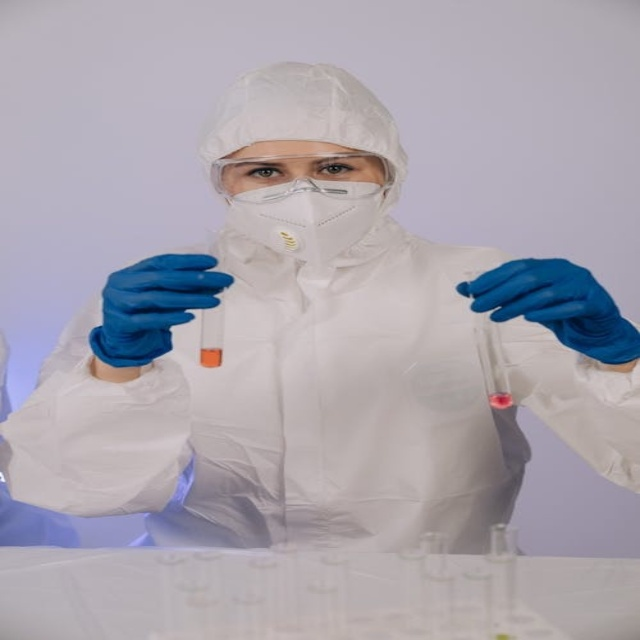Gafas: (215, 155, 393, 205)
Guantes: (457, 257, 639, 366), (90, 253, 232, 368)
Mascara: (219, 166, 394, 263)
